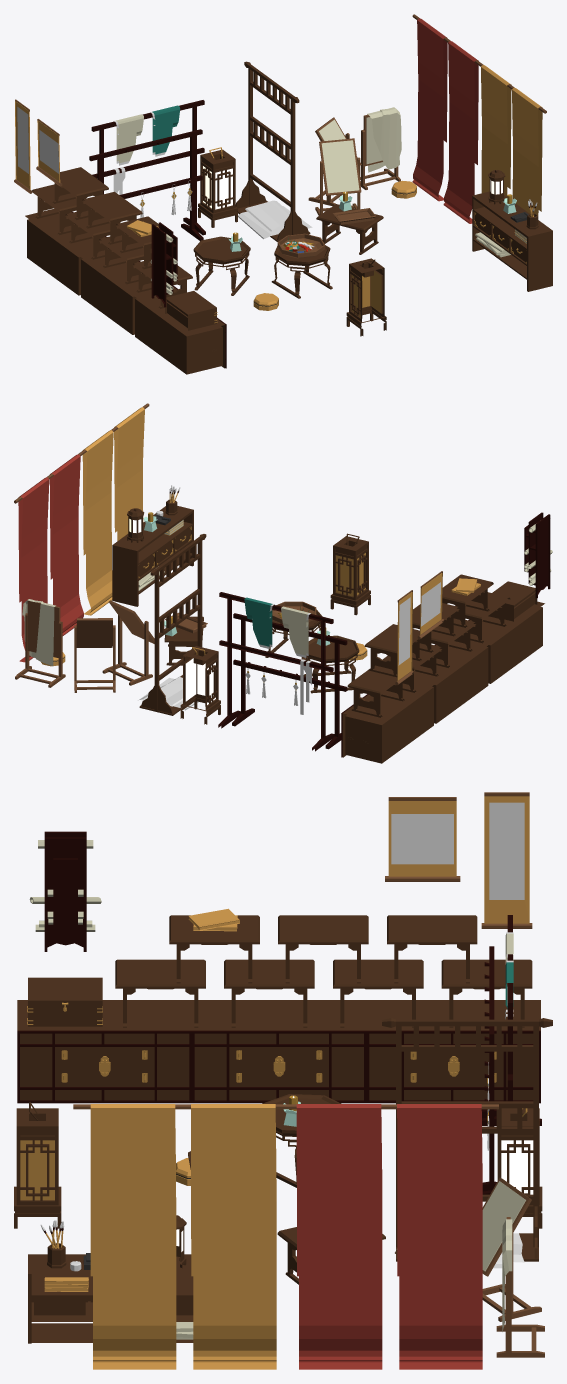
File: 04.11.22 workroom.fbx
3 renders of one model, top to bottom at view 1: azimuth 30°, elevation 25°; view 2: azimuth 150°, elevation 25°; view 3: azimuth 270°, elevation 25°, orthographic. The views are drawn at different scales.
Parts seen in each view (by area): view 1: W_원단, W_책장, W_거치대, W_책상, W_자수틀, W_소반, W_문갑, W_족자, W_좌등 01, W_좌등 02, W_저고리 01, W_고비 (+5 smaller); view 2: W_원단, W_책장, W_거치대, W_책상, W_자수틀, W_문갑, W_족자, W_좌등 02, W_소반, W_좌등 01, W_저고리 01, W_고비 (+4 smaller); view 3: W_원단, W_책장, W_책상, W_족자, W_거치대, W_고비, W_자수틀, W_좌등 02, W_문갑, W_좌등 01, W_서류함뚜껑, W_소반 (+10 smaller).
Boxes of the visible parts, x1=… form: W_원단: x1=412, y1=14, x2=546, y2=223; W_책장: x1=25, y1=208, x2=226, y2=374; W_거치대: x1=89, y1=61, x2=312, y2=241; W_책상: x1=32, y1=167, x2=192, y2=308; W_자수틀: x1=308, y1=107, x2=401, y2=221; W_소반: x1=193, y1=204, x2=383, y2=298; W_문갑: x1=472, y1=191, x2=552, y2=291; W_족자: x1=14, y1=99, x2=62, y2=193; W_좌등 01: x1=198, y1=147, x2=237, y2=227; W_좌등 02: x1=346, y1=258, x2=386, y2=336; W_저고리 01: x1=113, y1=105, x2=180, y2=165; W_고비: x1=150, y1=222, x2=177, y2=307; W_원단: x1=14, y1=403, x2=149, y2=662; W_책장: x1=341, y1=601, x2=544, y2=763; W_거치대: x1=138, y1=534, x2=347, y2=751; W_책상: x1=347, y1=574, x2=510, y2=717; W_자수틀: x1=15, y1=599, x2=154, y2=692; W_문갑: x1=112, y1=506, x2=193, y2=606; W_족자: x1=395, y1=571, x2=443, y2=685; W_좌등 02: x1=330, y1=533, x2=370, y2=615; W_소반: x1=164, y1=609, x2=359, y2=693; W_좌등 01: x1=180, y1=646, x2=220, y2=724; W_저고리 01: x1=244, y1=597, x2=311, y2=657; W_고비: x1=524, y1=512, x2=552, y2=598; W_원단: x1=73, y1=1104, x2=498, y2=1369; W_책장: x1=17, y1=1000, x2=540, y2=1103; W_책상: x1=115, y1=915, x2=532, y2=1027; W_족자: x1=385, y1=792, x2=532, y2=928; W_거치대: x1=382, y1=915, x2=552, y2=1268; W_고비: x1=29, y1=831, x2=101, y2=951; W_자수틀: x1=395, y1=1177, x2=544, y2=1357; W_좌등 02: x1=14, y1=1102, x2=61, y2=1228; W_문갑: x1=28, y1=1254, x2=193, y2=1343; W_좌등 01: x1=497, y1=1108, x2=542, y2=1228; W_서류함뚜껑: x1=28, y1=977, x2=102, y2=1005; W_소반: x1=188, y1=1094, x2=385, y2=1284.
Bounding box in the file's own units: 503 × 204 × 371.
